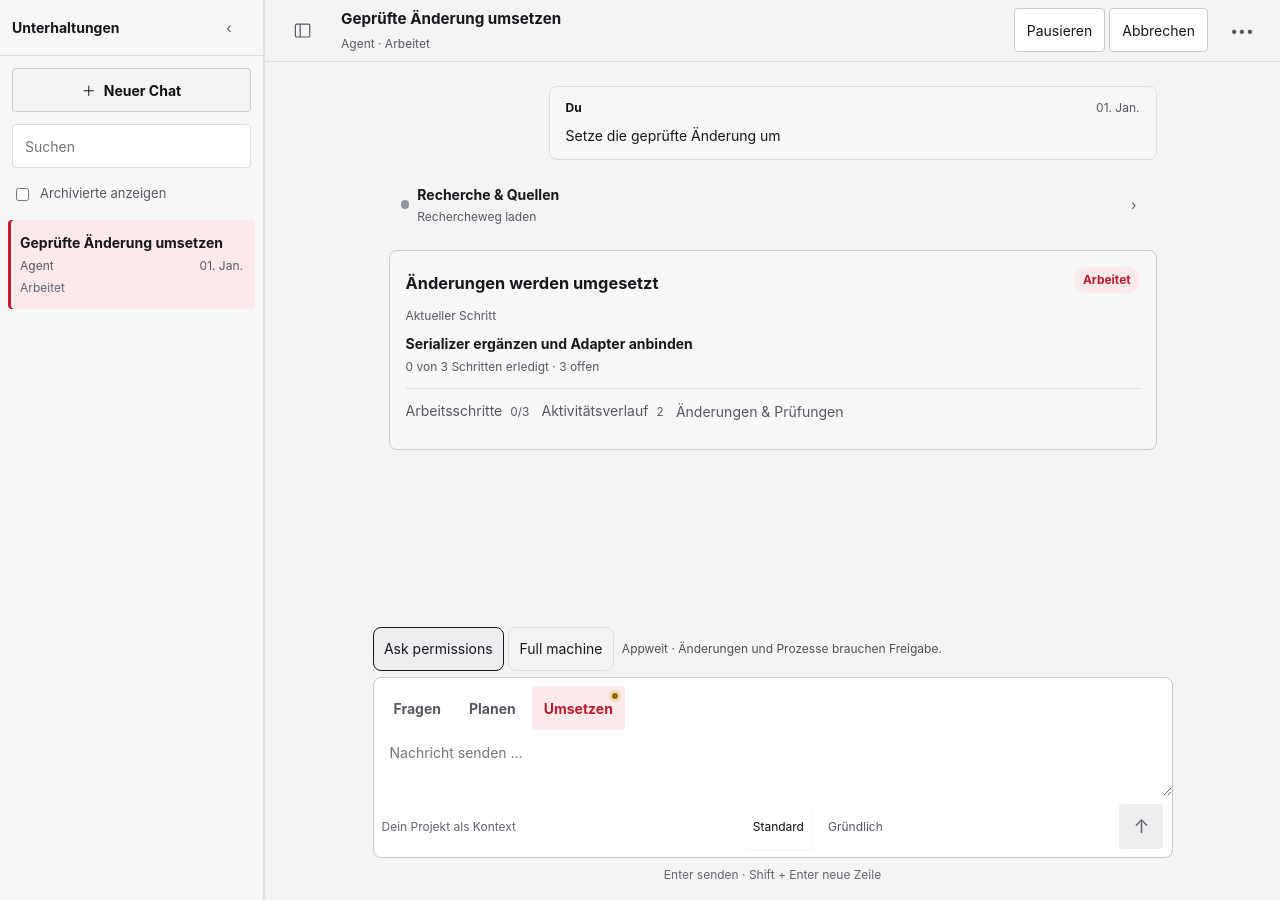
AgentWorkspace › keeps an opened inspection mounted while new run events arrive
The image size is (1280, 900).
Check: the element "Änderungen werden umgesetzt" is shown, box [388,250,1156,450]
Check: the text "Serializer ergänzen und Adapter anbinden" is shown, box [406,335,693,352]
Click the button "Änderungen & Prüfungen": (760,411) [676,389,844,433]
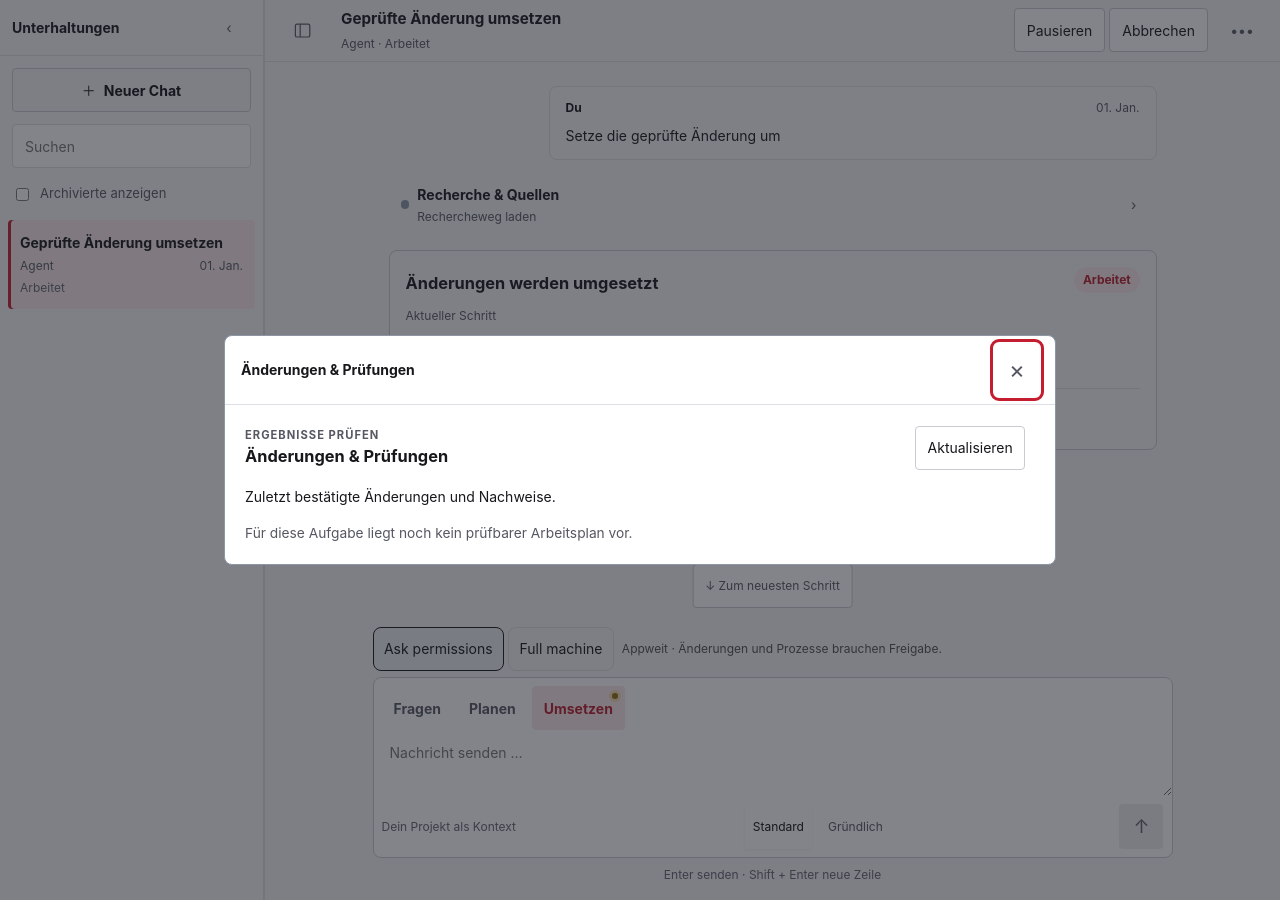
Check: the button "↓ Zum neuesten Schritt" is shown, box [692,564,853,608]
Check: the text "Für diese Aufgabe liegt noch kein prüfbarer Arbeitsplan vor." is shown, box [245,525,633,541]
